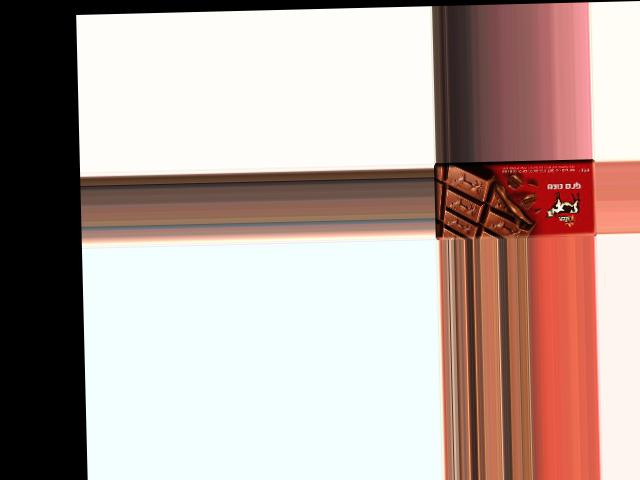chocolate: (436, 160, 597, 239)
